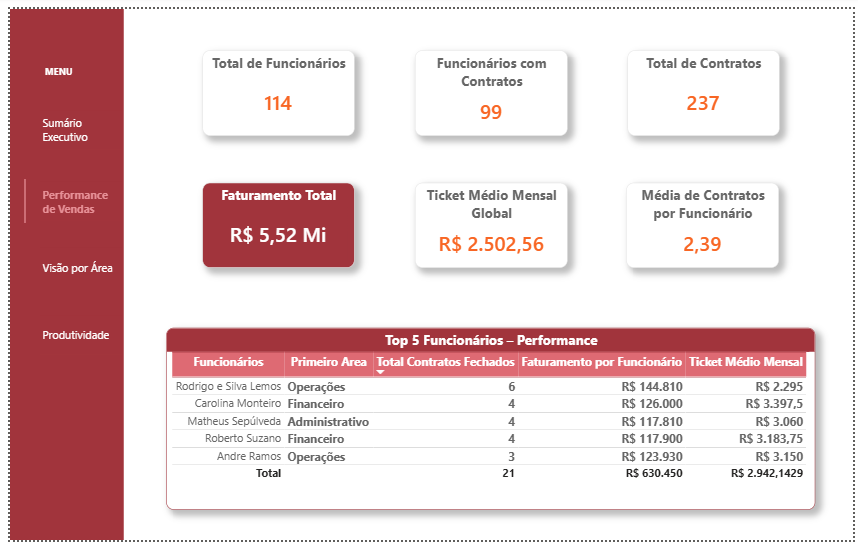

The page's visual inventory and layout, read from the dashboard file:
{"tool":"powerbi","page":{"name":"Performance de Vendas","canvas":[1350,850],"ordinal":1},"visuals":[{"type":"cardVisual","title":"Funcionários com Contratos ","fields":{"Data":["_TodasMedidas.Total Funcionários Ativos"]},"box":[647.1,65.7,244.3,137.1],"z":0},{"type":"cardVisual","title":"Total de Funcionários","fields":{"Data":["CountNonNull(Ranking_top5_vendas.ID Funcionário)"]},"box":[307.1,65.7,242.9,137.1],"z":1000},{"type":"cardVisual","title":"Ticket Médio Mensal Global ","fields":{"Data":["_TodasMedidas.Ticket Médio Mensal"]},"box":[648.6,278.6,244.3,135.7],"z":2000},{"type":"pivotTable","title":"Top 5 Funcionários – Performance ","fields":{"Rows":["Ranking_top5_vendas.Nome Completo"],"Values":["Min(Ranking_top5_vendas.Area)","_TodasMedidas.Total Contratos Fechados","_TodasMedidas.Soma Valor Total Contratos - faturamento","_TodasMedidas.Ticket Médio Mensal"]},"box":[250,510,1038.6,291.4],"z":3000},{"type":"shape","box":[0,0,182,900],"z":4000},{"type":"cardVisual","title":"Total de Contratos ","fields":{"Data":["_TodasMedidas.Total Contratos Fechados"]},"box":[987.1,65.7,242.9,137.1],"z":5000},{"type":"cardVisual","title":"Média de Contratos por Funcionário  ","fields":{"Data":["_TodasMedidas.Taxa de Produtividade (Contratos de Funcionarios)"]},"box":[985.7,278.6,244.3,135.7],"z":6000},{"type":"cardVisual","title":"Faturamento Total ","fields":{"Data":["_TodasMedidas.Soma Valor Total Contratos - faturamento"]},"box":[307.1,278.6,242.9,135.7],"z":7000},{"type":"shape","box":[55.7,78.6,100,44.3],"z":8000},{"type":"actionButton","box":[48.6,161.4,131.4,62.9],"z":9000},{"type":"shape","box":[14.3,271.4,20,70],"z":10000},{"type":"actionButton","box":[48.6,275.7,131.4,62.9],"z":11000},{"type":"actionButton","box":[48.6,382.9,131.4,62.9],"z":12000},{"type":"actionButton","box":[48.6,490,131.4,62.9],"z":13000}]}

Visuals, with their boxes in screenshot pixels (x1, y1, x2, y2), scaled from the page's 1350x850 canvas onto the 858x547 screenshot:
"Funcionários com Contratos " cardVisual: rect(411, 42, 567, 131)
"Total de Funcionários" cardVisual: rect(195, 42, 350, 131)
"Ticket Médio Mensal Global " cardVisual: rect(412, 179, 567, 267)
"Top 5 Funcionários – Performance " pivotTable: rect(159, 328, 819, 516)
shape: rect(0, 0, 116, 546)
"Total de Contratos " cardVisual: rect(627, 42, 782, 131)
"Média de Contratos por Funcionário  " cardVisual: rect(626, 179, 782, 267)
"Faturamento Total " cardVisual: rect(195, 179, 350, 267)
shape: rect(35, 51, 99, 79)
actionButton: rect(31, 104, 114, 144)
shape: rect(9, 175, 22, 220)
actionButton: rect(31, 177, 114, 218)
actionButton: rect(31, 246, 114, 287)
actionButton: rect(31, 315, 114, 356)
